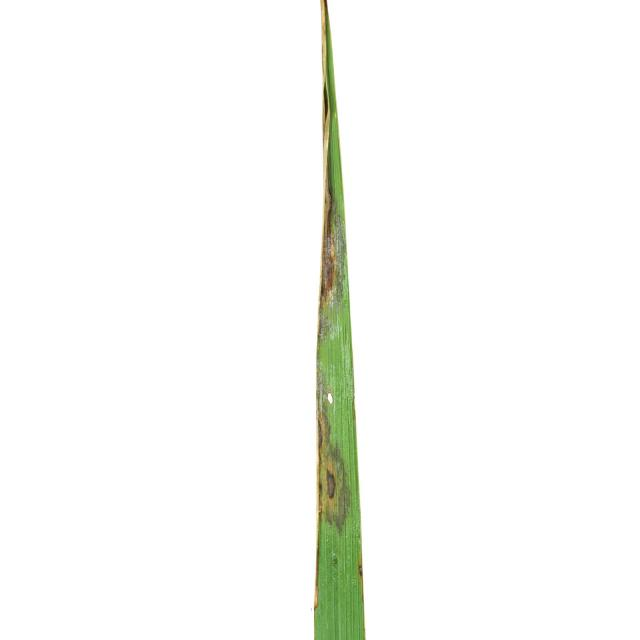Leaf scald: (264, 0, 503, 640)
